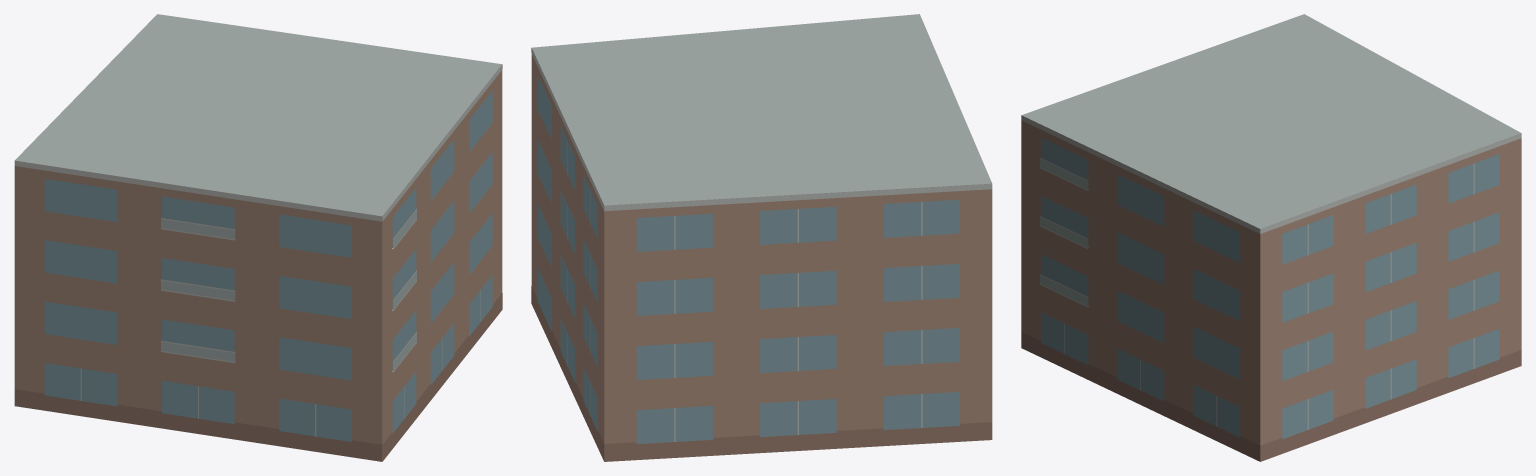
File: survey-upis-32523322.glb
3 views of the same model, side by side, from view 1: azimuth 30°, elevation 25°; view 2: azimuth 150°, elevation 25°; view 3: azimuth 270°, elevation 25° (orthographic). The views are drawn at different scales.
Visible parts, largest first — view 1: survey-upis-32523322.tmp; view 2: survey-upis-32523322.tmp; view 3: survey-upis-32523322.tmp.
Part boxes in pixels (x1,y1,x2,y2): survey-upis-32523322.tmp: [14, 14, 502, 461]; survey-upis-32523322.tmp: [531, 14, 992, 461]; survey-upis-32523322.tmp: [1021, 14, 1521, 461].
Size of the model in its own units: 22.19 by 11.2 by 21.81.
